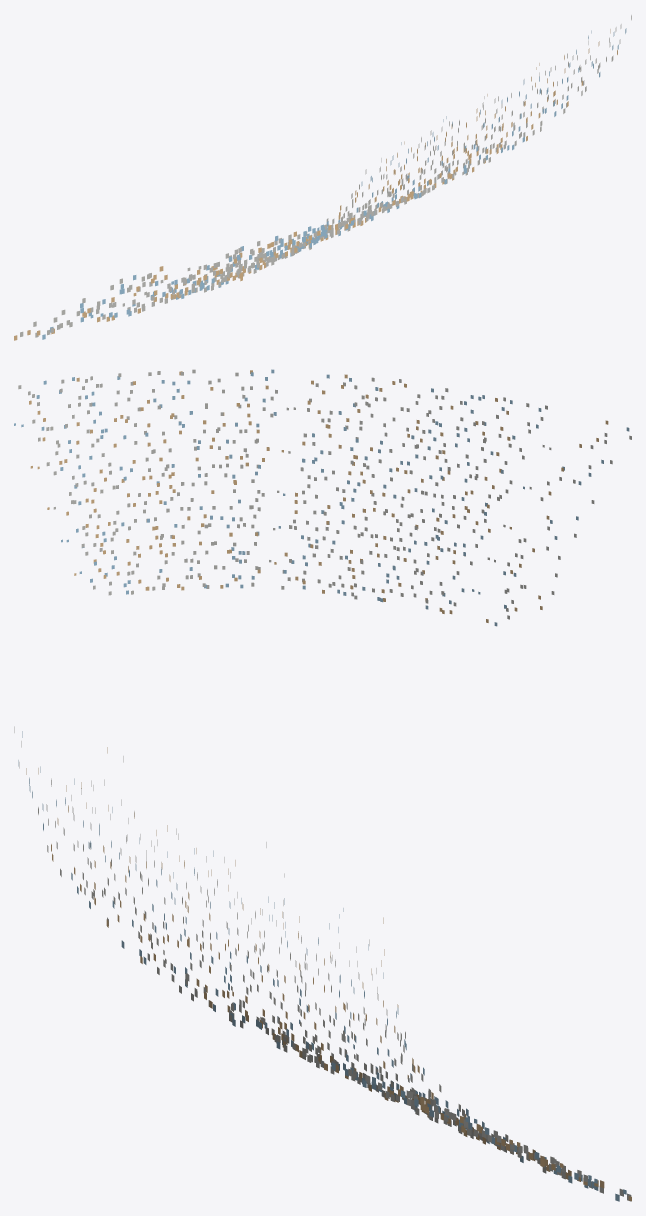
The model's file is UpperPhones7.obj.
The picture shows the model from 3 angles, top to bottom: view 1: azimuth 30°, elevation 25°; view 2: azimuth 150°, elevation 25°; view 3: azimuth 270°, elevation 25°; orthographic projection. The views are drawn at different scales.
Visible parts, largest first — view 1: UpperPhones7; view 2: UpperPhones7; view 3: UpperPhones7.
Boxes of the visible parts, x1,y1,x2,y2 form: UpperPhones7: [14, 15, 631, 340]; UpperPhones7: [14, 369, 631, 626]; UpperPhones7: [14, 726, 631, 1201].
Bounding box in the file's own units: 64.57 × 16.37 × 37.89.
1 material, 1 textured.
